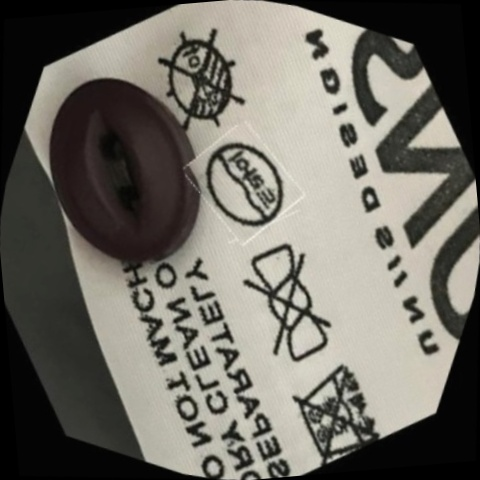DN_dry: (131, 10, 271, 151)
DN_wring: (208, 226, 367, 385)
dry_clean: (180, 119, 307, 249)
hand_wash: (268, 337, 404, 478)
